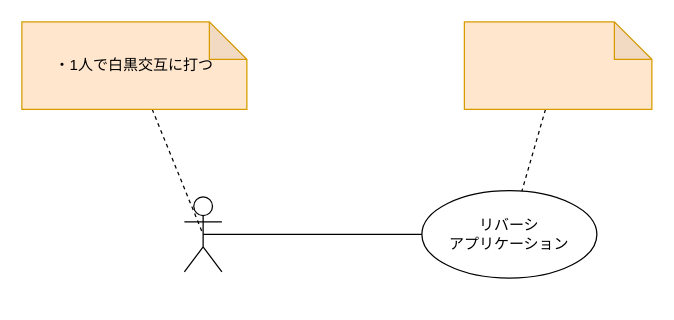
This 674x320 diagram has some shape labels left out. The shapes that lost their labels are listed below. From the top down, each one's box as (x1, y1, x2, y2) in pixels, then its label:
(463, 21, 652, 109): Webアプリ
(183, 196, 222, 272): プレイヤー
